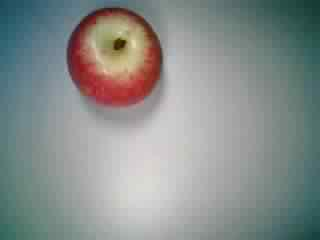apple: (61, 7, 168, 111)
